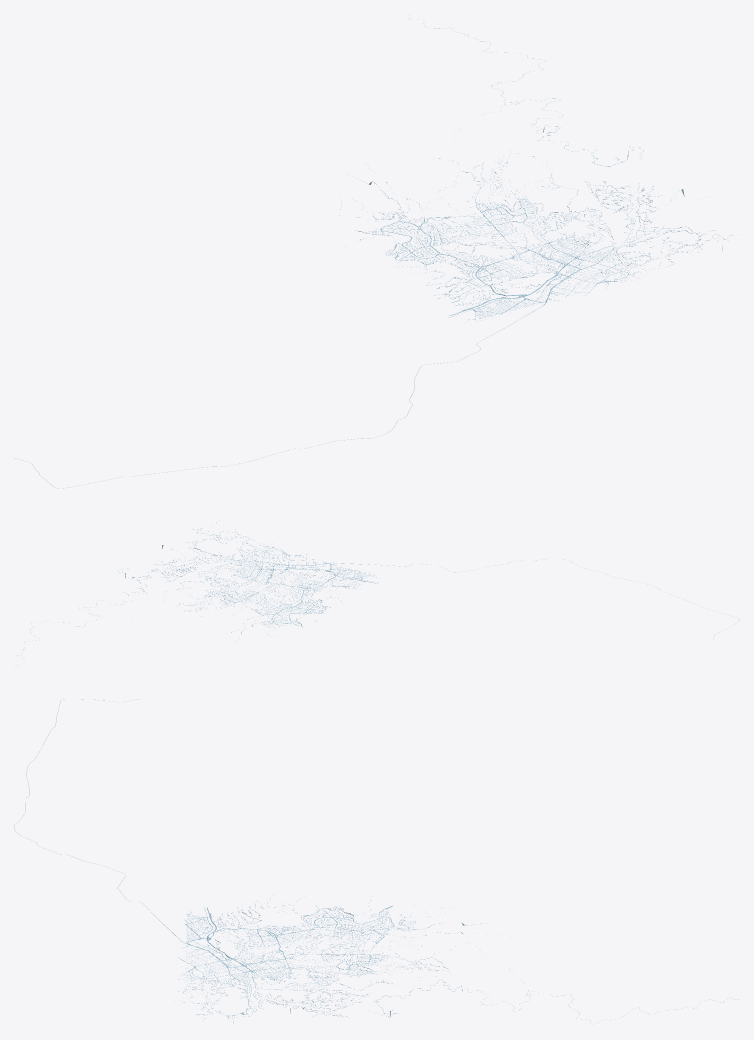
Rendered from roads.glb.
3 views of the same model, one above another, from view 1: azimuth 30°, elevation 25°; view 2: azimuth 150°, elevation 25°; view 3: azimuth 270°, elevation 25° (orthographic). The views are drawn at different scales.
Parts seen in each view (by area): view 1: roads; view 2: roads; view 3: roads.
Boxes of the visible parts, x1,y1,x2,y2 form: roads: (14, 17, 733, 488); roads: (16, 520, 739, 655); roads: (14, 699, 739, 1022).
Size of the model in its own units: 27991 by 1001 by 24973.
